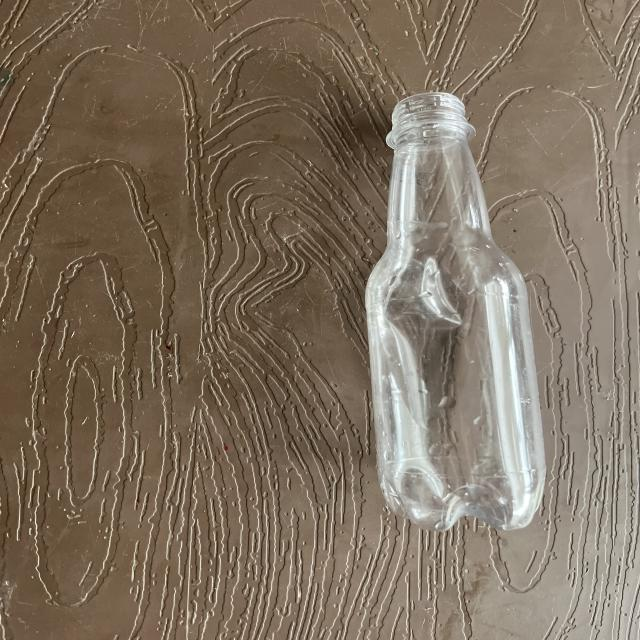PET_With_Liquid: (367, 129, 545, 529)
